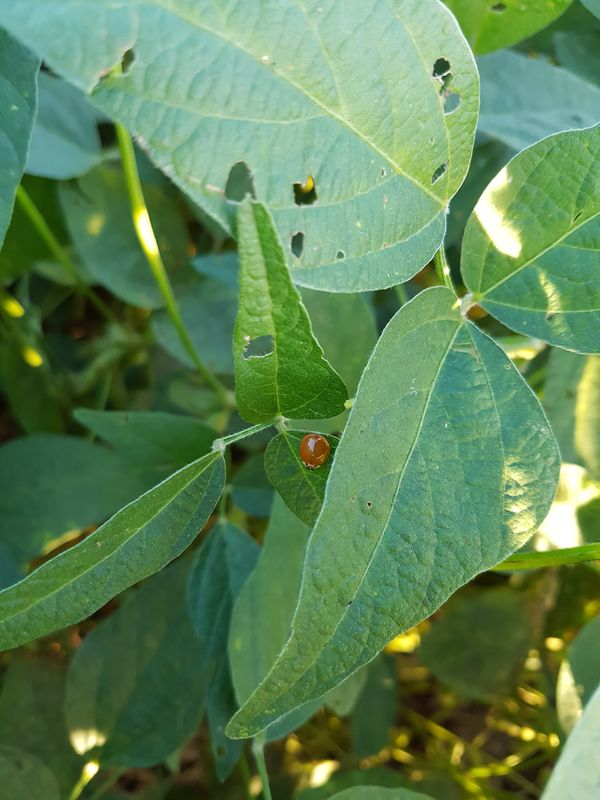Coccinellidae: (289, 420, 346, 486)
